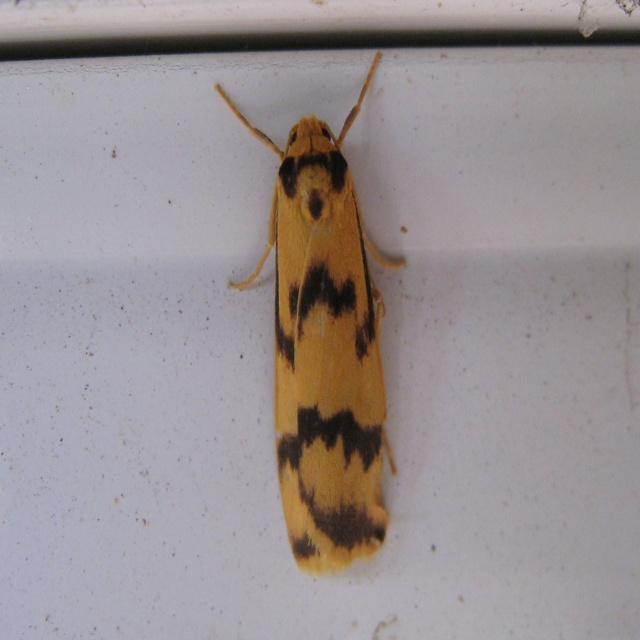Moths and butterflies: (209, 51, 415, 579)
